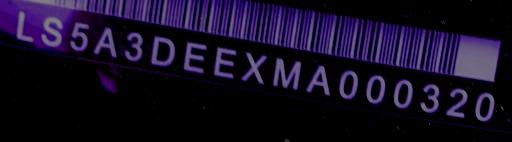letter: (268, 54, 302, 94), (177, 35, 209, 77), (210, 42, 238, 86), (302, 59, 330, 101), (145, 32, 175, 71), (239, 46, 265, 88), (387, 73, 415, 112), (444, 84, 470, 125), (88, 24, 118, 59), (332, 65, 360, 101), (360, 69, 386, 107), (120, 27, 144, 68), (470, 90, 498, 125), (418, 78, 442, 117), (10, 7, 34, 44), (65, 16, 87, 55), (36, 15, 64, 44)
